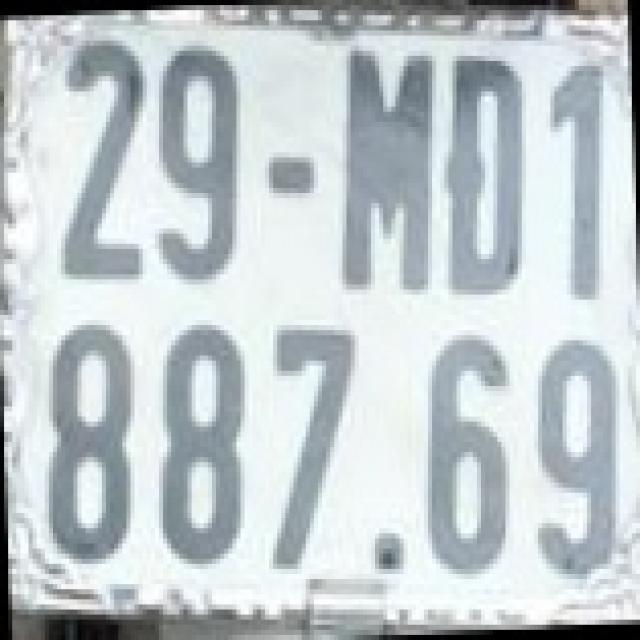1: (542, 61, 612, 305)
2: (53, 31, 151, 284)
6: (420, 330, 514, 574)
7: (265, 315, 359, 569)
8: (40, 315, 138, 564), (155, 315, 249, 569)
9: (150, 41, 248, 284), (530, 330, 620, 579)
B: (444, 46, 530, 300)
D: (444, 51, 530, 300)
M: (341, 46, 438, 284)
